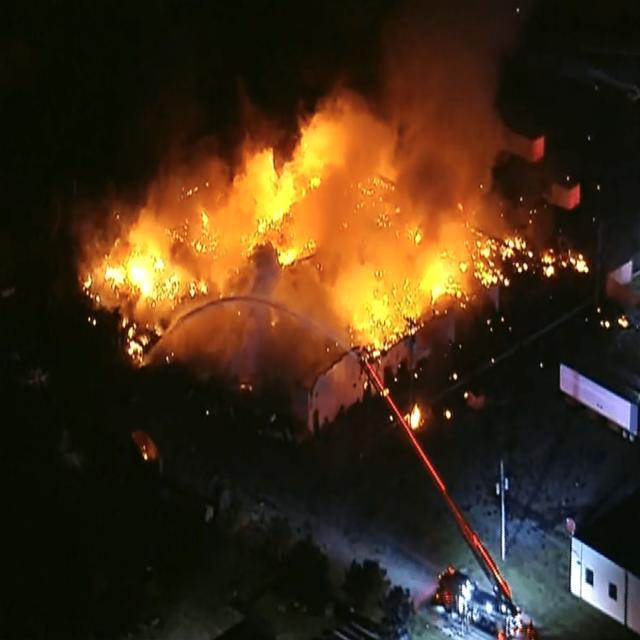fire: (240, 140, 478, 354), (98, 206, 205, 340)
